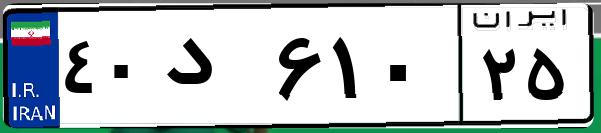0: (385, 28, 445, 110), (110, 28, 158, 98)
1: (330, 28, 385, 110)
2: (475, 38, 525, 113)
4: (57, 26, 110, 100)
5: (525, 38, 570, 115)
6: (270, 28, 330, 110)
د: (158, 20, 270, 120)
